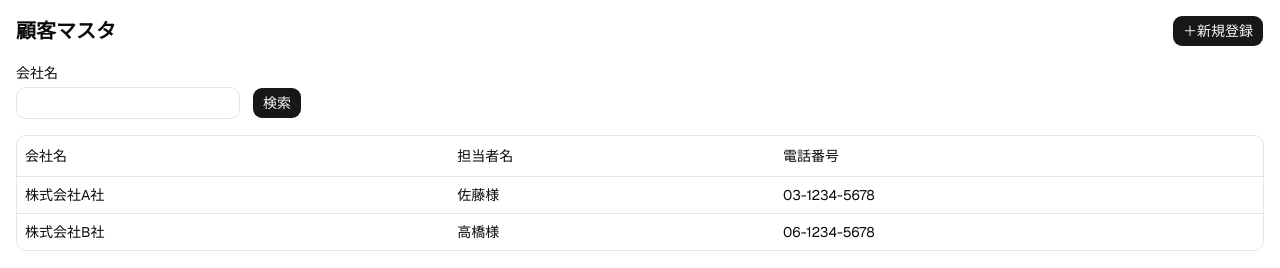
CustomerList › filters by company name on search (TC-SCR04-01)
Check: the text "株式会社A社" is shown, box [17,176,449,213]
Type "A社" into the field labelled "会社名" at (128, 103), box [16,87,240,119]
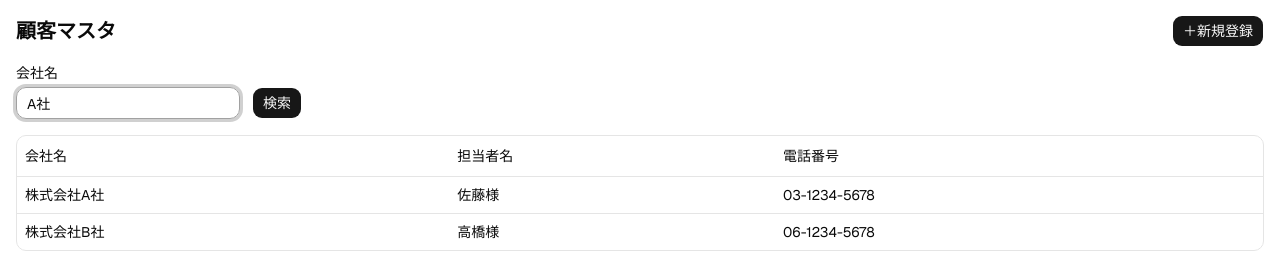
Click the button "検索" at (277, 103), box [252,87,302,119]
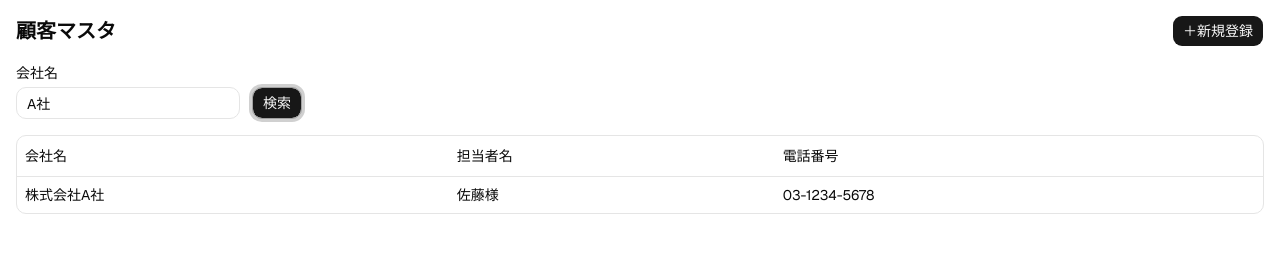
Check: the text "株式会社A社" is shown, box [17,176,449,212]
Check: the text "株式会社B社" is gone
